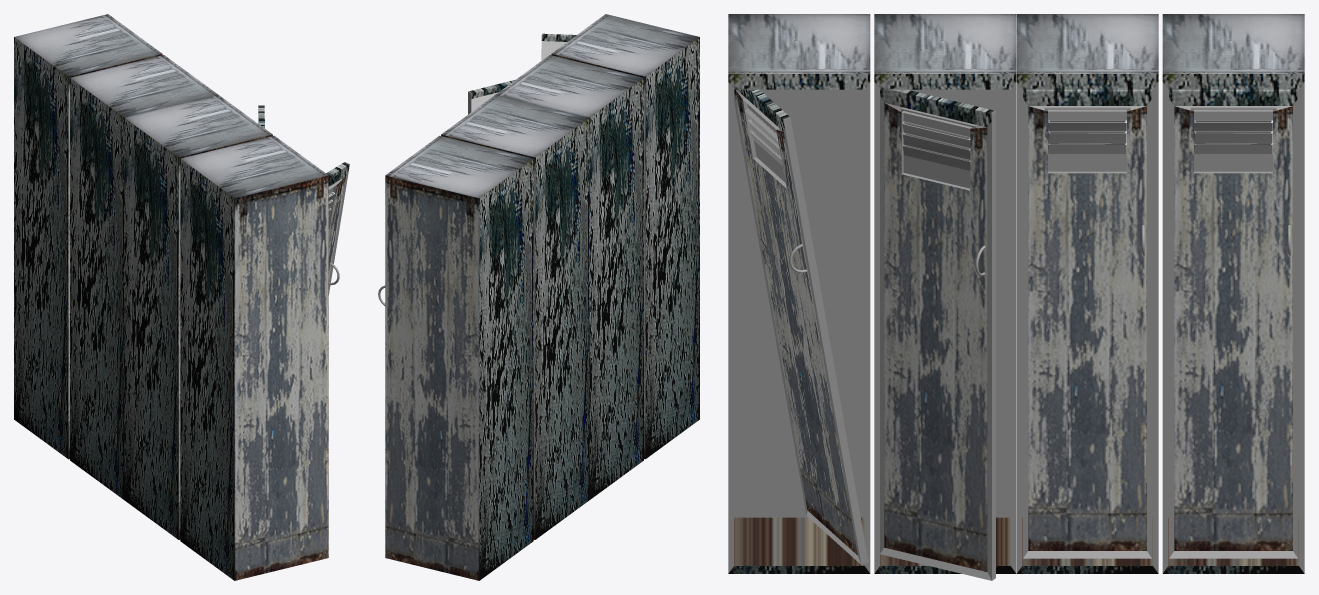
Rendered from Lockers.fbx.
The picture shows the model from 3 angles, left to right: view 1: azimuth 30°, elevation 25°; view 2: azimuth 150°, elevation 25°; view 3: azimuth 270°, elevation 25°; orthographic projection. The views are drawn at different scales.
Parts seen in each view (by area): view 1: polySurface18; view 2: polySurface18; view 3: polySurface18.
Boxes of the visible parts, x1=… form: polySurface18: x1=14, y1=14, x2=349, y2=580; polySurface18: x1=378, y1=14, x2=699, y2=580; polySurface18: x1=728, y1=14, x2=1304, y2=580.
Bounding box in the file's own units: 42.85 × 114 × 119.
